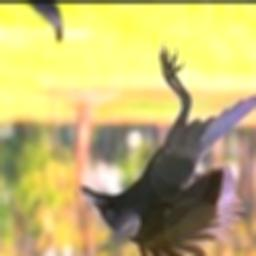Crow: (80, 40, 256, 256)
